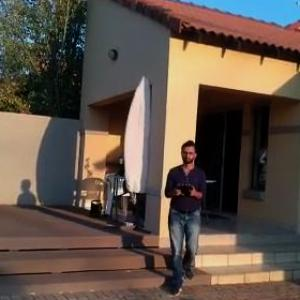follow: (161, 136, 208, 297)
